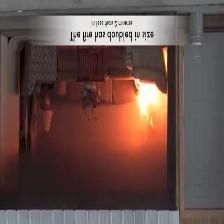fire: (125, 88, 169, 149)
